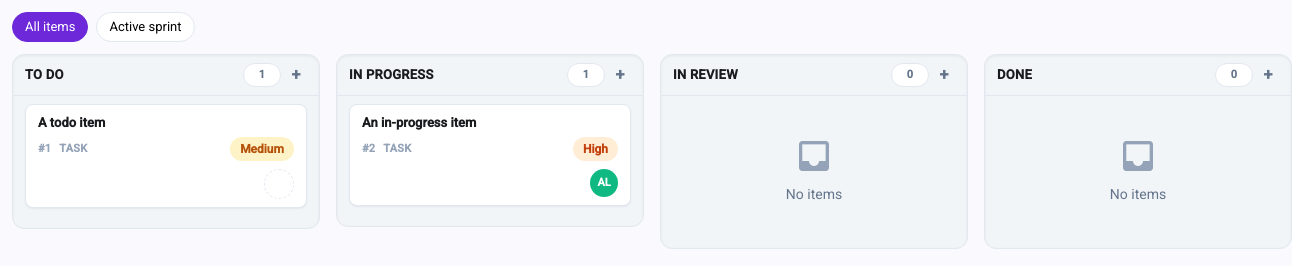
BoardComponent › shows the days-remaining/overdue indicator for the Active sprint in "Active sprint" mode
The width and height of the screenshot is (1292, 266).
Click the button with class "active-sprint-toggle": point(146, 27) [96,12,194,42]
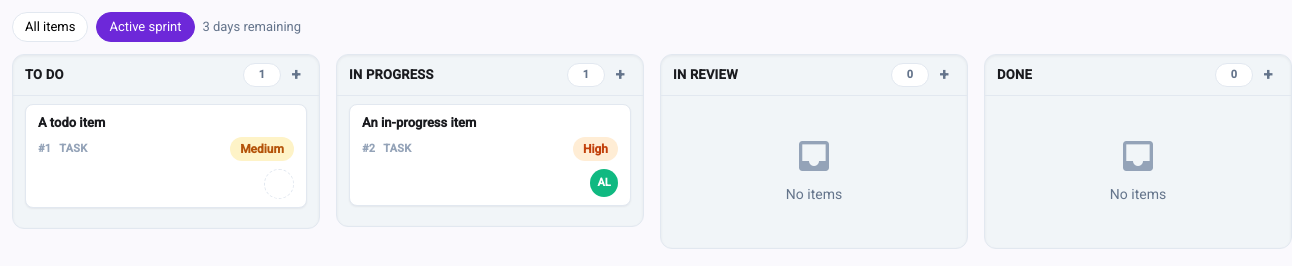
Now the text with class "sprint-days-remaining" reads "3 days remaining", box [202,19,301,34]
